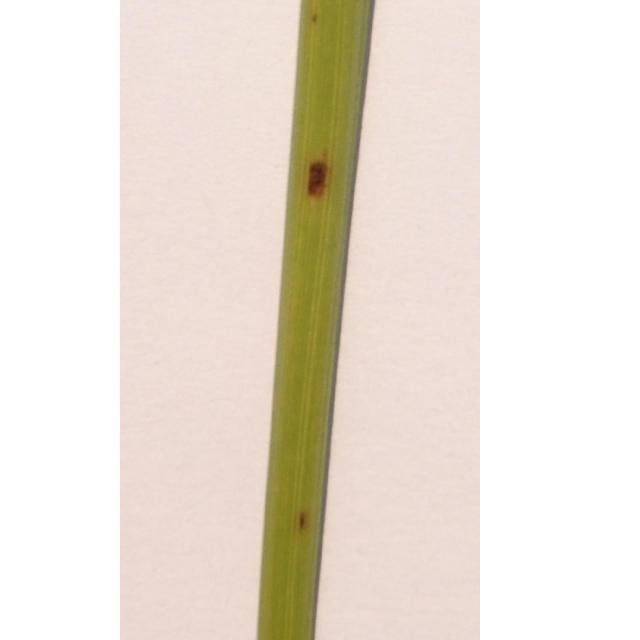Brown spot: (296, 151, 334, 217), (302, 0, 319, 34), (294, 506, 312, 538)
